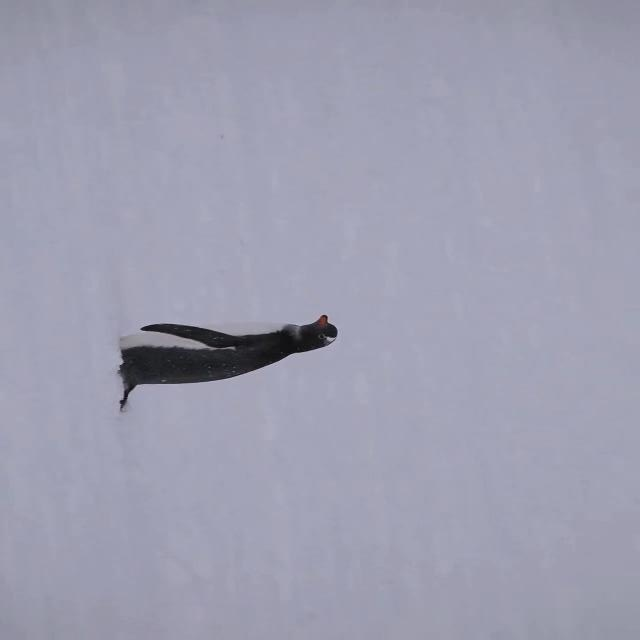penguin: (117, 313, 339, 412)
